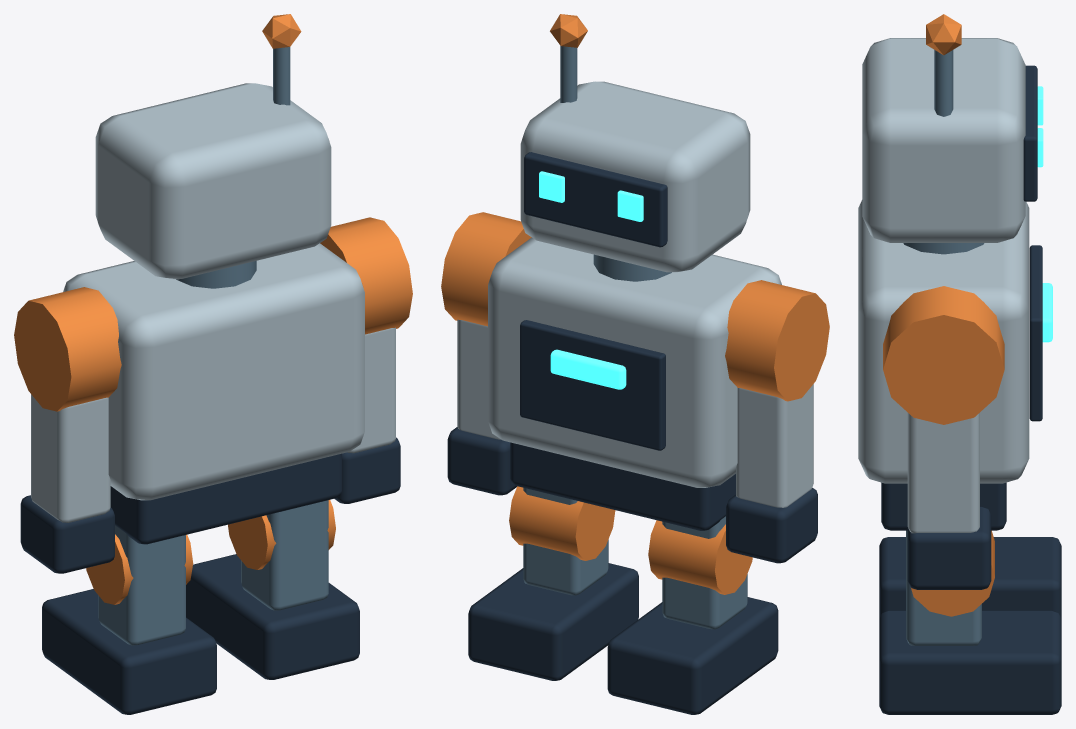
File: scout-robot.glb
3 renders of one model, left to right at view 1: azimuth 30°, elevation 25°; view 2: azimuth 150°, elevation 25°; view 3: azimuth 270°, elevation 25°, orthographic. The views are drawn at different scales.
Visible parts, largest first — view 1: torso, head, foot--0.23, foot-0.23, shoulder--0.46, hip, arm--0.46, leg--0.23, leg-0.23, shoulder-0.46, hand--0.46, arm-0.46 (+6 smaller); view 2: torso, head, foot--0.23, foot-0.23, chest, shoulder--0.46, hip, arm--0.46, visor, shoulder-0.46, knee-0.23, hand--0.46 (+11 smaller); view 3: head, torso, foot-0.23, shoulder-0.46, arm-0.46, foot--0.23, hand-0.46, leg-0.23, chest, hip, visor, knee-0.23 (+4 smaller).
Part boxes in pixels (x1=…): torso: x1=63, y1=243, x2=364, y2=500; head: x1=95, y1=83, x2=331, y2=279; foot--0.23: x1=42, y1=589, x2=216, y2=714; foot-0.23: x1=186, y1=554, x2=359, y2=679; shoulder--0.46: x1=14, y1=287, x2=121, y2=411; hip: x1=110, y1=453, x2=341, y2=544; arm--0.46: x1=31, y1=394, x2=110, y2=522; leg--0.23: x1=98, y1=525, x2=185, y2=645; leg-0.23: x1=241, y1=500, x2=328, y2=610; shoulder-0.46: x1=320, y1=217, x2=412, y2=334; hand--0.46: x1=20, y1=495, x2=114, y2=573; arm-0.46: x1=348, y1=327, x2=395, y2=453; torso: x1=488, y1=237, x2=781, y2=487; head: x1=520, y1=81, x2=750, y2=272; foot--0.23: x1=607, y1=597, x2=778, y2=714; foot-0.23: x1=468, y1=563, x2=638, y2=680; chest: x1=520, y1=320, x2=665, y2=450; shoulder--0.46: x1=725, y1=280, x2=829, y2=401; hip: x1=510, y1=442, x2=735, y2=530; arm--0.46: x1=736, y1=384, x2=813, y2=507; visor: x1=524, y1=152, x2=667, y2=247; shoulder-0.46: x1=441, y1=212, x2=531, y2=326; knee-0.23: x1=509, y1=486, x2=615, y2=560; hand--0.46: x1=726, y1=488, x2=817, y2=563; head: x1=862, y1=38, x2=1025, y2=242; torso: x1=858, y1=200, x2=1029, y2=483; foot-0.23: x1=879, y1=610, x2=1061, y2=714; shoulder-0.46: x1=883, y1=286, x2=1004, y2=424; arm-0.46: x1=907, y1=413, x2=979, y2=533; foot--0.23: x1=879, y1=537, x2=1061, y2=618; hand-0.46: x1=907, y1=506, x2=991, y2=589; leg-0.23: x1=906, y1=530, x2=981, y2=645; chest: x1=1029, y1=245, x2=1042, y2=421; hip: x1=881, y1=482, x2=1006, y2=530; visor: x1=1023, y1=65, x2=1037, y2=201; knee-0.23: x1=911, y1=530, x2=994, y2=616.
Size of the model in its own units: 1.12 by 1.96 by 0.535.
